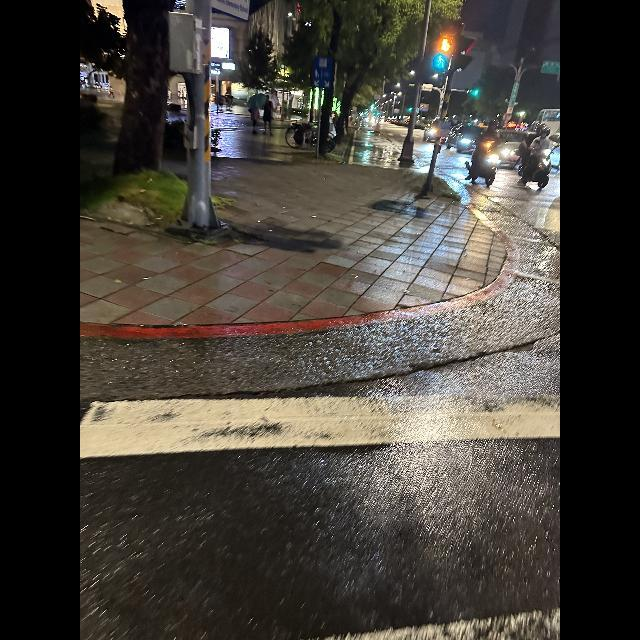sidewalk: (80, 392, 559, 640)
